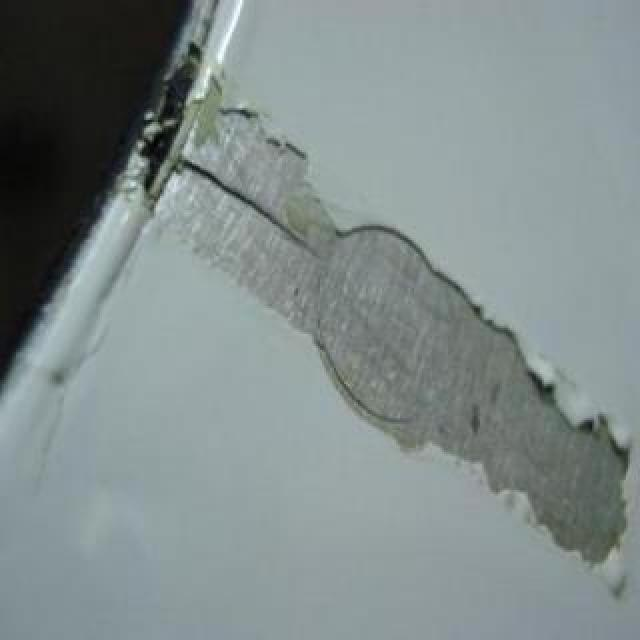crack: (172, 144, 330, 272)
